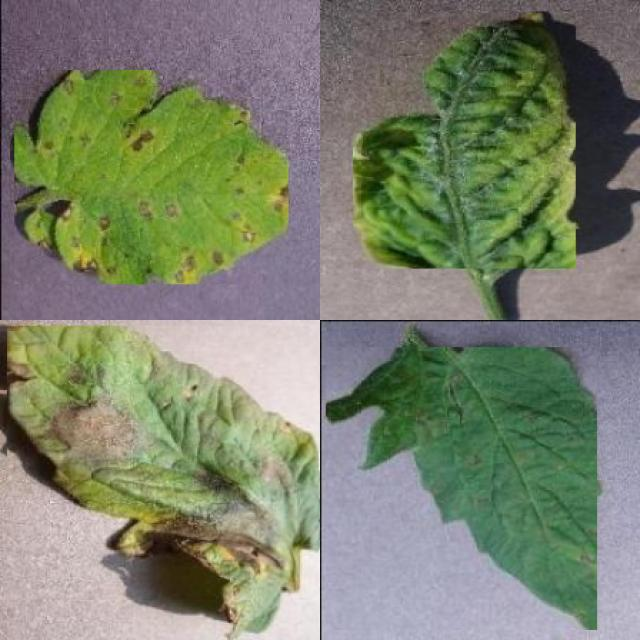Late Blight: (7, 325, 318, 640)
Septoria: (326, 347, 598, 630), (14, 71, 289, 285)
Yellow Leaf Curl Virus: (354, 11, 576, 269)
